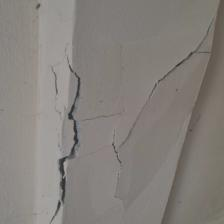High: (42, 16, 224, 224)
